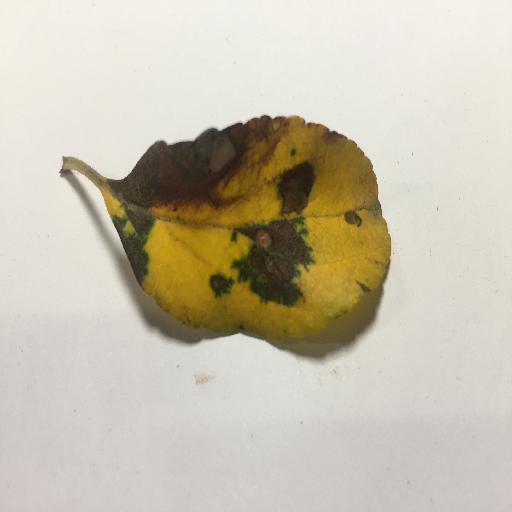Brown_Spot: (119, 124, 266, 214), (240, 218, 307, 302), (276, 161, 313, 217), (341, 211, 363, 232), (210, 277, 232, 295)
